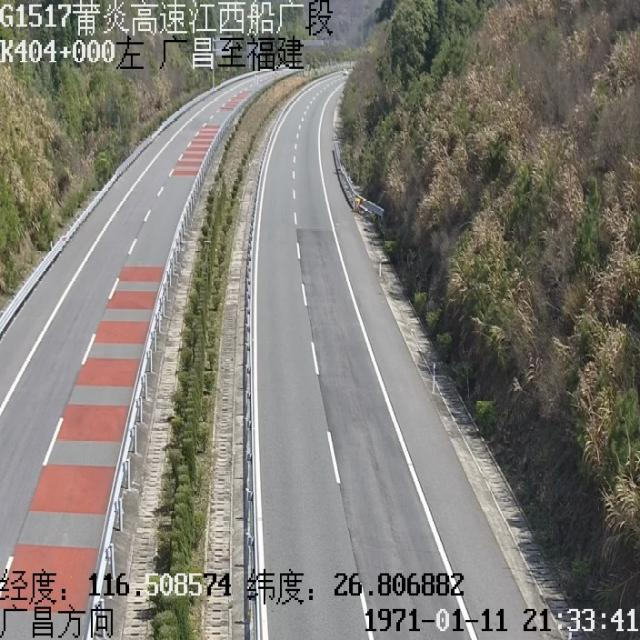point: (320, 53, 360, 98)
